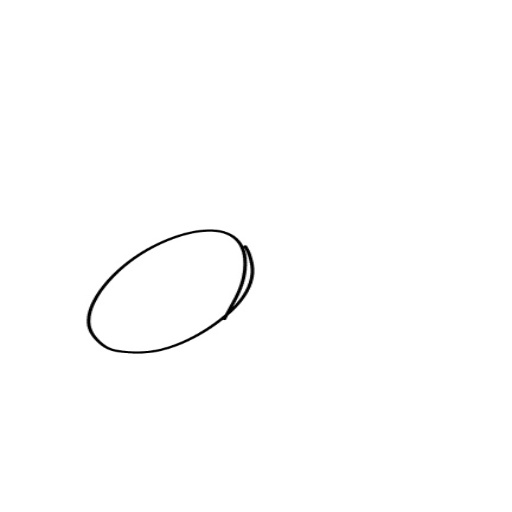circle: (83, 227, 259, 358)
